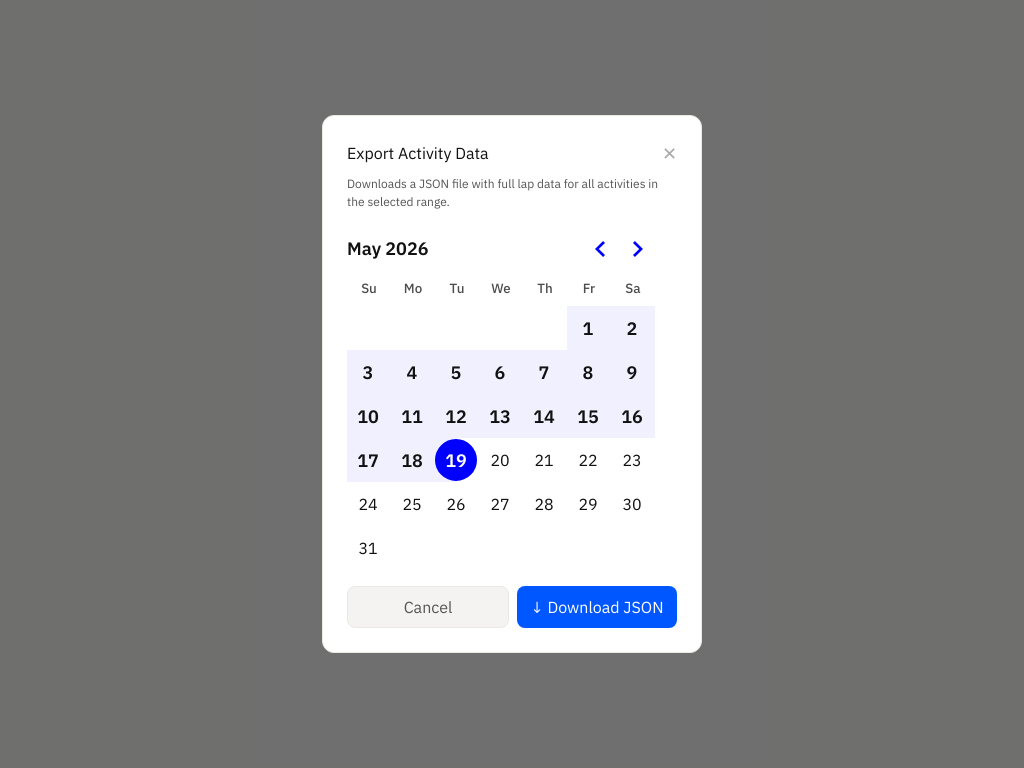
it: ExportModal › shows error message on failure
Click the button "↓ Download JSON": (597, 608) [517,586,677,628]
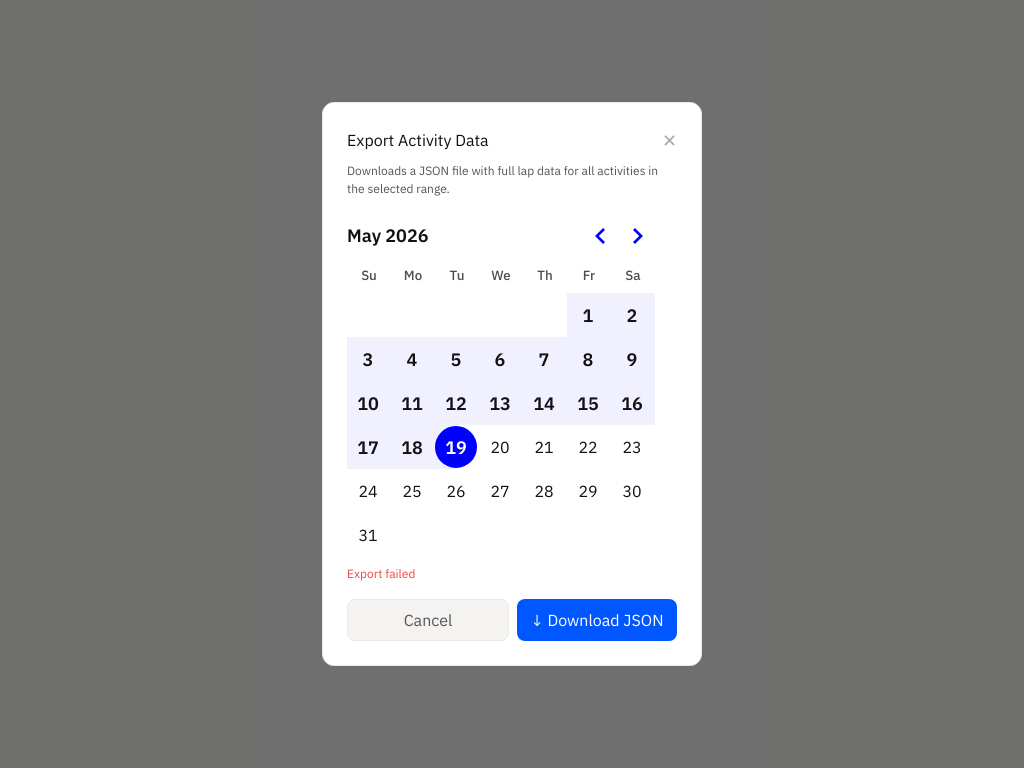
Expected: the text "Export failed" is shown, [347,566,415,582]
